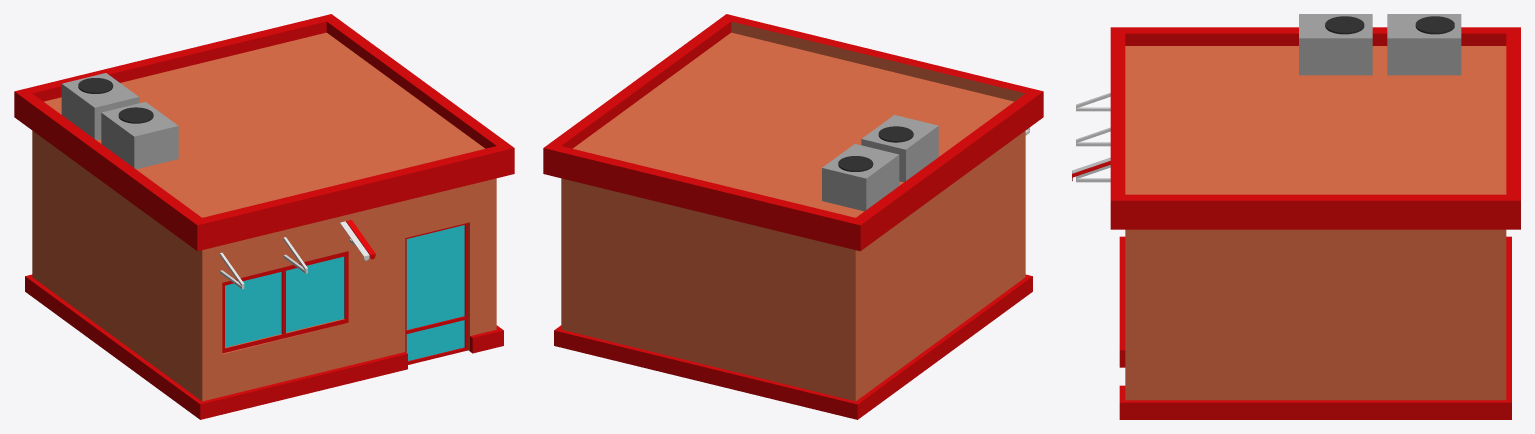
The model's file is Shop.gltf.
The picture shows the model from 3 angles, left to right: view 1: azimuth 30°, elevation 25°; view 2: azimuth 150°, elevation 25°; view 3: azimuth 270°, elevation 25°; orthographic projection. The views are drawn at different scales.
Parts seen in each view (by area): view 1: Cube, Cube.001, Cube.009, Cube.008, Cylinder, Cylinder.001; view 2: Cube, Cube.001, Cube.008, Cube.009, Cylinder, Cylinder.001; view 3: Cube, Cube.001, Cube.008, Cube.009, Cylinder, Cylinder.001.
Part boxes in pixels (<box>): Cube: <box>14,14,514,401</box>; Cube.001: <box>25,274,503,419</box>; Cube.009: <box>101,102,178,169</box>; Cube.008: <box>61,73,139,140</box>; Cylinder: <box>118,107,153,123</box>; Cylinder.001: <box>78,78,113,93</box>; Cube: <box>543,14,1043,401</box>; Cube.001: <box>554,274,1032,419</box>; Cube.008: <box>822,144,899,211</box>; Cube.009: <box>861,115,938,182</box>; Cylinder: <box>878,126,913,142</box>; Cylinder.001: <box>838,156,873,171</box>; Cube: <box>1110,27,1520,400</box>; Cube.001: <box>1119,236,1511,419</box>; Cube.008: <box>1387,14,1461,75</box>; Cube.009: <box>1299,14,1372,75</box>; Cylinder: <box>1325,16,1364,34</box>; Cylinder.001: <box>1415,16,1454,34</box>.
Size of what is drawn, in the model's own units: 5 by 3.36 by 5.47.
